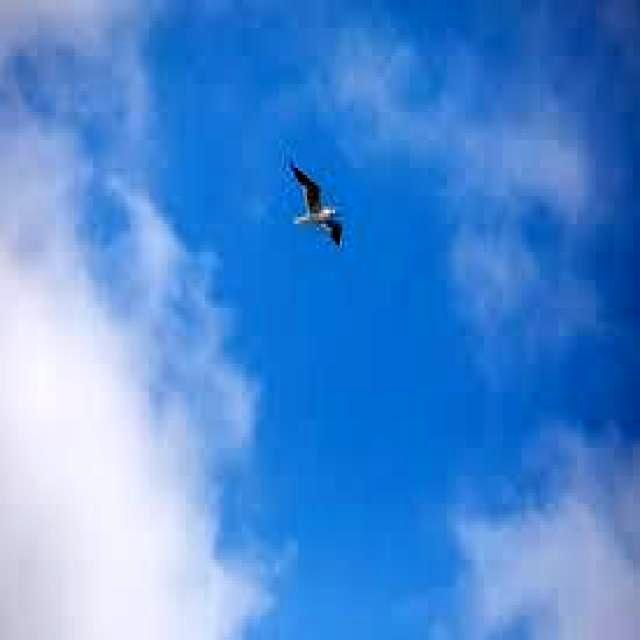bird: (282, 155, 348, 254)
